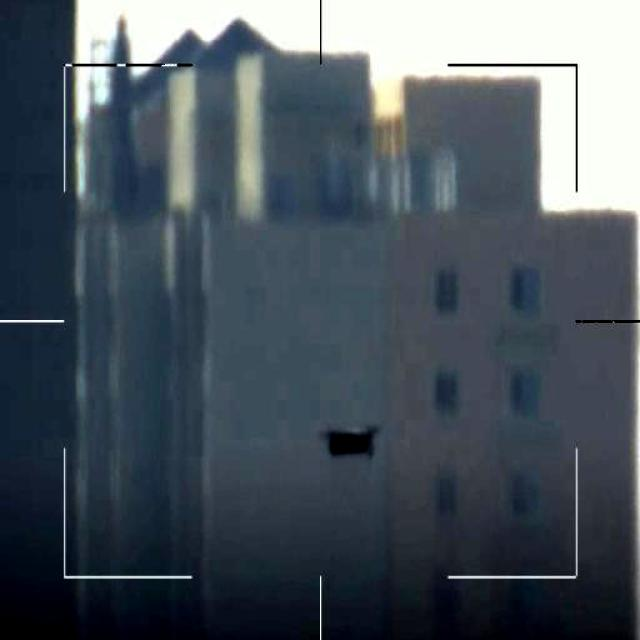bird: (319, 421, 378, 461)
